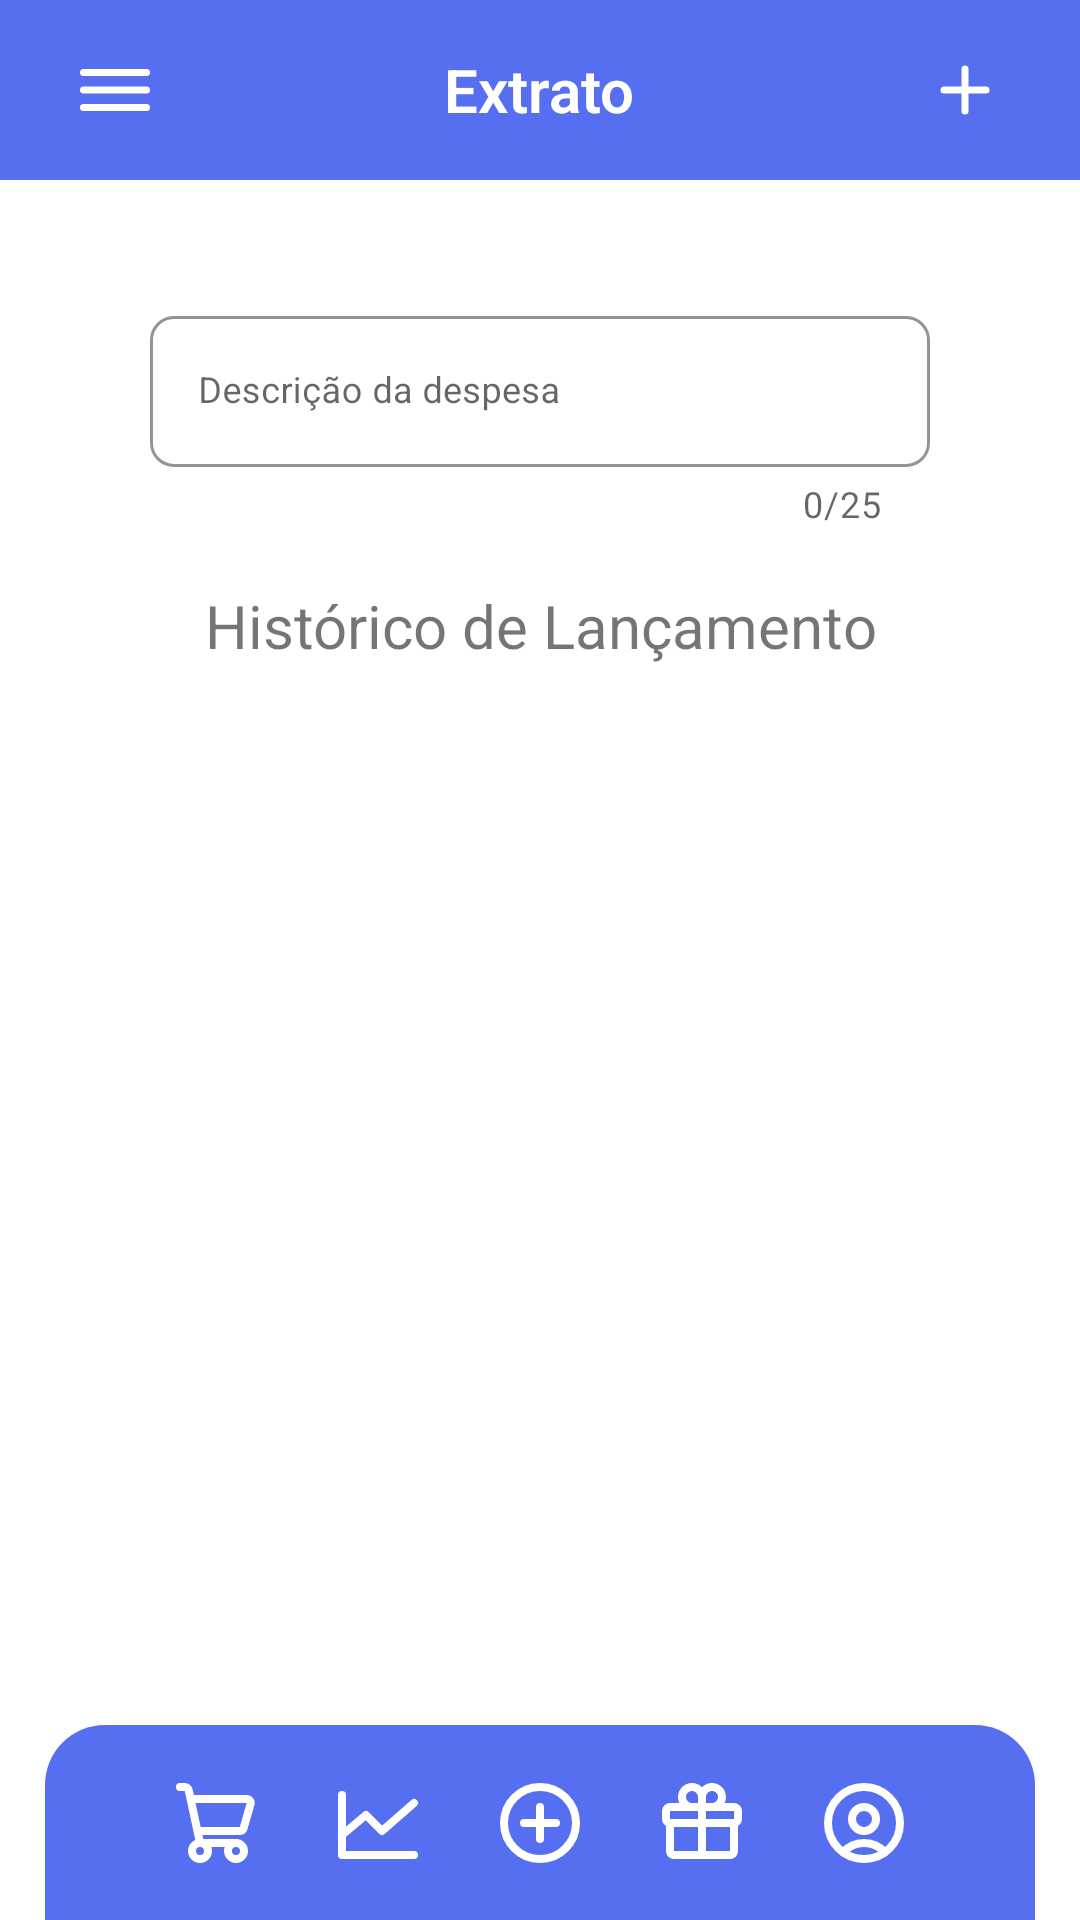

Screen size 1080 × 1920. Icon name, then its center in pixels as (x=x, y=y):
add plus: (x=965, y=90)
add plus circle: (x=540, y=1823)
chart line: (x=378, y=1825)
gift: (x=702, y=1821)
hamburger lg: (x=115, y=90)
shopping cart: (x=215, y=1823)
usercircle: (x=864, y=1823)
